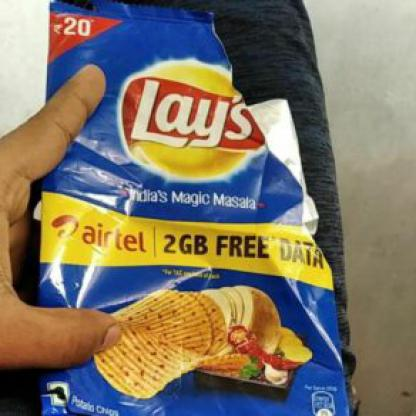potatochip: (26, 0, 366, 415)
